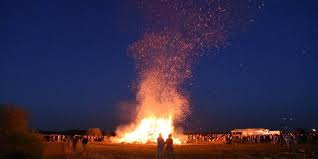fire: (118, 34, 191, 149)
